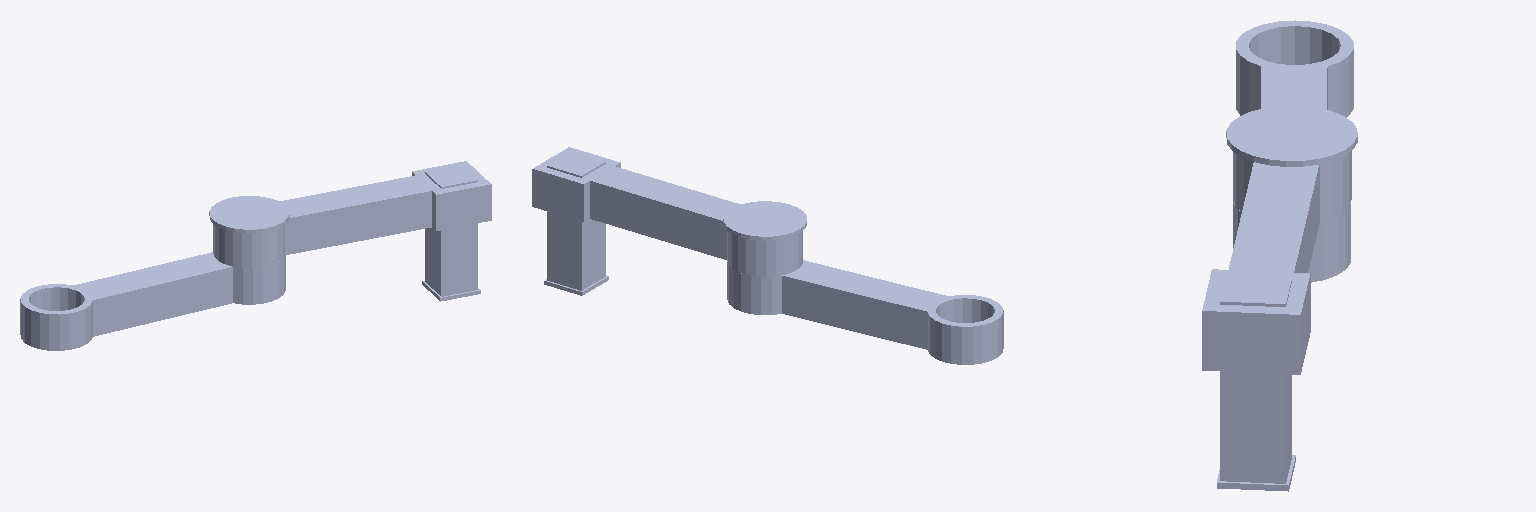
The robot description file, URDF, robot "3D_CAD_Scara1":
<?xml version="1.0" encoding="utf-8"?>
<!-- This URDF was automatically created by SolidWorks to URDF Exporter! Originally created by Stephen Brawner (brawner@gmail.com) 
     Commit Version: 1.6.0-4-g7f85cfe  Build Version: 1.6.7995.38578
     For more information, please see http://wiki.ros.org/sw_urdf_exporter -->
<robot
  name="3D_CAD_Scara1">
  <link
    name="base_link">
    <inertial>
      <origin
        xyz="-6.93889390390723E-18 0 0.113260302039731"
        rpy="0 0 0" />
      <mass
        value="7.81592864600267" />
      <inertia
        ixx="0.0717820556775515"
        ixy="5.78241158658935E-19"
        ixz="1.45665661912053E-19"
        iyy="0.0717820556775515"
        iyz="-7.81090109364004E-18"
        izz="0.0419250565426863" />
    </inertial>
    <visual>
      <origin
        xyz="0 0 0"
        rpy="0 0 0" />
      <geometry>
        <mesh
          filename="package://my_robot/meshes/base_link.STL" />
      </geometry>
      <material
        name="">
        <color
          rgba="0.792156862745098 0.819607843137255 0.933333333333333 1" />
      </material>
    </visual>
    <collision>
      <origin
        xyz="0 0 0"
        rpy="0 0 0" />
      <geometry>
        <mesh
          filename="package://my_robot/meshes/base_link.STL" />
      </geometry>
    </collision>
  </link>
  <link
    name="Link1_Link">
    <inertial>
      <origin
        xyz="0.370271442843165 1.11022302462516E-16 0.0173220805169391"
        rpy="0 0 0" />
      <mass
        value="8.88681009624485" />
      <inertia
        ixx="0.0336698999754297"
        ixy="3.11437074046461E-17"
        ixz="-0.0276670618254062"
        iyy="0.38037068204283"
        iyz="7.54962716171005E-19"
        izz="0.373774678100568" />
    </inertial>
    <visual>
      <origin
        xyz="0 0 0"
        rpy="0 0 0" />
      <geometry>
        <mesh
          filename="package://my_robot/meshes/Link1_Link.STL" />
      </geometry>
      <material
        name="">
        <color
          rgba="0.792156862745098 0.819607843137255 0.933333333333333 1" />
      </material>
    </visual>
    <collision>
      <origin
        xyz="0 0 0"
        rpy="0 0 0" />
      <geometry>
        <mesh
          filename="package://my_robot/meshes/Link1_Link.STL" />
      </geometry>
    </collision>
  </link>
  <joint
    name="joint01_joint"
    type="continuous">
    <origin
      xyz="0 0 0.22"
      rpy="0 0 -0.0076361" />
    <parent
      link="base_link" />
    <child
      link="Link1_Link" />
    <axis
      xyz="0 0 1" />
    <limit
      lower="0"
      upper="0"
      effort="0"
      velocity="0" />
  </joint>
  <link
    name="Link02_Link">
    <inertial>
      <origin
        xyz="0.275083735554592 0.000101676439374865 0.00267549314958929"
        rpy="0 0 0" />
      <mass
        value="6.45815878743564" />
      <inertia
        ixx="0.0167219501540954"
        ixy="-4.3021728033898E-05"
        ixz="0.00475310573507189"
        iyy="0.257168736515574"
        iyz="1.75684275239958E-06"
        izz="0.261837246328888" />
    </inertial>
    <visual>
      <origin
        xyz="0 0 0"
        rpy="0 0 0" />
      <geometry>
        <mesh
          filename="package://my_robot/meshes/Link02_Link.STL" />
      </geometry>
      <material
        name="">
        <color
          rgba="0.792156862745098 0.819607843137255 0.933333333333333 1" />
      </material>
    </visual>
    <collision>
      <origin
        xyz="0 0 0"
        rpy="0 0 0" />
      <geometry>
        <mesh
          filename="package://my_robot/meshes/Link02_Link.STL" />
      </geometry>
    </collision>
  </link>
  <joint
    name="joint02_joint"
    type="continuous">
    <origin
      xyz="0.55 0 0.1"
      rpy="0 0 -0.091166" />
    <parent
      link="Link1_Link" />
    <child
      link="Link02_Link" />
    <axis
      xyz="0 0 1" />
    <limit
      lower="0"
      upper="0"
      effort="0"
      velocity="0" />
  </joint>
  <link
    name="Link03_Link">
    <inertial>
      <origin
        xyz="0 -1.11022302462516E-16 -0.156009291893624"
        rpy="0 0 0" />
      <mass
        value="3.121" />
      <inertia
        ixx="0.0279173373972018"
        ixy="-3.03576608295941E-18"
        ixz="2.0529279095095E-18"
        iyy="0.0279173373972018"
        iyz="-1.29972526327343E-18"
        izz="0.00524401666666667" />
    </inertial>
    <visual>
      <origin
        xyz="0 0 0"
        rpy="0 0 0" />
      <geometry>
        <mesh
          filename="package://my_robot/meshes/Link03_Link.STL" />
      </geometry>
      <material
        name="">
        <color
          rgba="0.792156862745098 0.819607843137255 0.933333333333333 1" />
      </material>
    </visual>
    <collision>
      <origin
        xyz="0 0 0"
        rpy="0 0 0" />
      <geometry>
        <mesh
          filename="package://my_robot/meshes/Link03_Link.STL" />
      </geometry>
    </collision>
  </link>
  <joint
    name="joint03_joint"
    type="prismatic">
    <origin
      xyz="0.55 0.00012531 0.054965"
      rpy="0 0 0" />
    <parent
      link="Link02_Link" />
    <child
      link="Link03_Link" />
    <axis
      xyz="0 0 1" />
    <limit
      lower="-0.0049658"
      upper="0.17503"
      effort="0"
      velocity="0" />
  </joint>
  <link
    name="End_effector">
    <inertial>
      <origin
        xyz="0 -2.22044604925031E-16 0.153990708106376"
        rpy="0 0 0" />
      <mass
        value="3.121" />
      <inertia
        ixx="0.0279173373972018"
        ixy="-3.03576608295941E-18"
        ixz="2.05521053034246E-18"
        iyy="0.0279173373972018"
        iyz="-1.29460065133088E-18"
        izz="0.00524401666666667" />
    </inertial>
    <visual>
      <origin
        xyz="0 0 0"
        rpy="0 0 0" />
      <geometry>
        <mesh
          filename="package://my_robot/meshes/End_effector.STL" />
      </geometry>
      <material
        name="">
        <color
          rgba="0.792156862745098 0.819607843137255 0.933333333333333 1" />
      </material>
    </visual>
    <collision>
      <origin
        xyz="0 0 0"
        rpy="0 0 0" />
      <geometry>
        <mesh
          filename="package://my_robot/meshes/End_effector.STL" />
      </geometry>
    </collision>
  </link>
  <joint
    name="end_efector"
    type="fixed">
    <origin
      xyz="0 0 -0.31"
      rpy="0 0 0" />
    <parent
      link="Link03_Link" />
    <child
      link="End_effector" />
    <axis
      xyz="0 0 0" />
  </joint>
</robot>

--- Facts derived from the render (not from the file) ---
Views: 3 orthographic renders of the robot side by side, from view 1: azimuth 30°, elevation 25°; view 2: azimuth 150°, elevation 25°; view 3: azimuth 270°, elevation 25°.
Model 3D_CAD_Scara1 with 5 links and 4 joints (2 continuous, 1 prismatic, 1 fixed), rooted at base_link, posed every joint at zero.
Visible links, largest first — view 1: Link02_Link, Link1_Link, Link03_Link; view 2: Link02_Link, Link1_Link, Link03_Link; view 3: Link02_Link, Link1_Link, Link03_Link, End_effector.
Link boxes in pixels (bbox=[...]): Link02_Link: bbox=[209, 161, 491, 267]; Link1_Link: bbox=[20, 252, 285, 350]; Link03_Link: bbox=[422, 165, 480, 298]; Link02_Link: bbox=[532, 147, 806, 276]; Link1_Link: bbox=[727, 260, 1003, 364]; Link03_Link: bbox=[544, 151, 608, 295]; Link02_Link: bbox=[1202, 106, 1357, 374]; Link1_Link: bbox=[1233, 20, 1353, 282]; Link03_Link: bbox=[1217, 274, 1295, 491]; End_effector: bbox=[1217, 302, 1295, 490].
Size in the robot's own frame: 1.27 by 0.2357 by 0.315 metres.
4 mesh visuals loaded from 5 distinct referenced files (4 binary STL); not drawn: 1 (reference not matched to a file when rendering).
